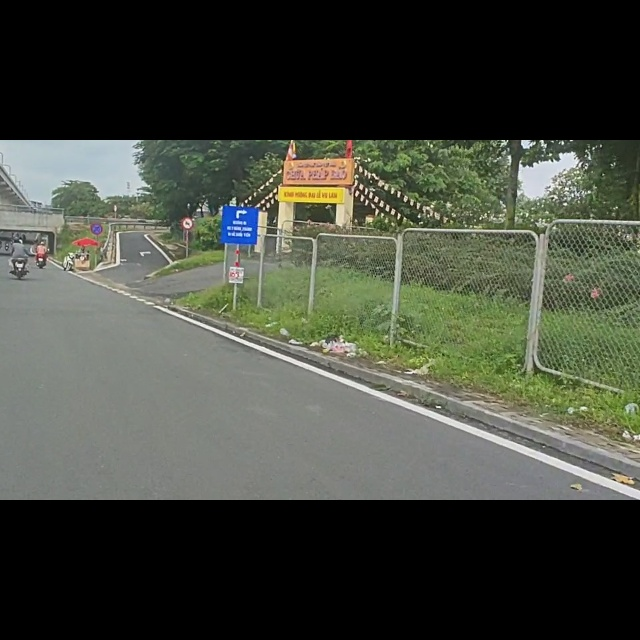bien_chi_dan: (180, 135, 195, 160), (89, 147, 104, 168)
